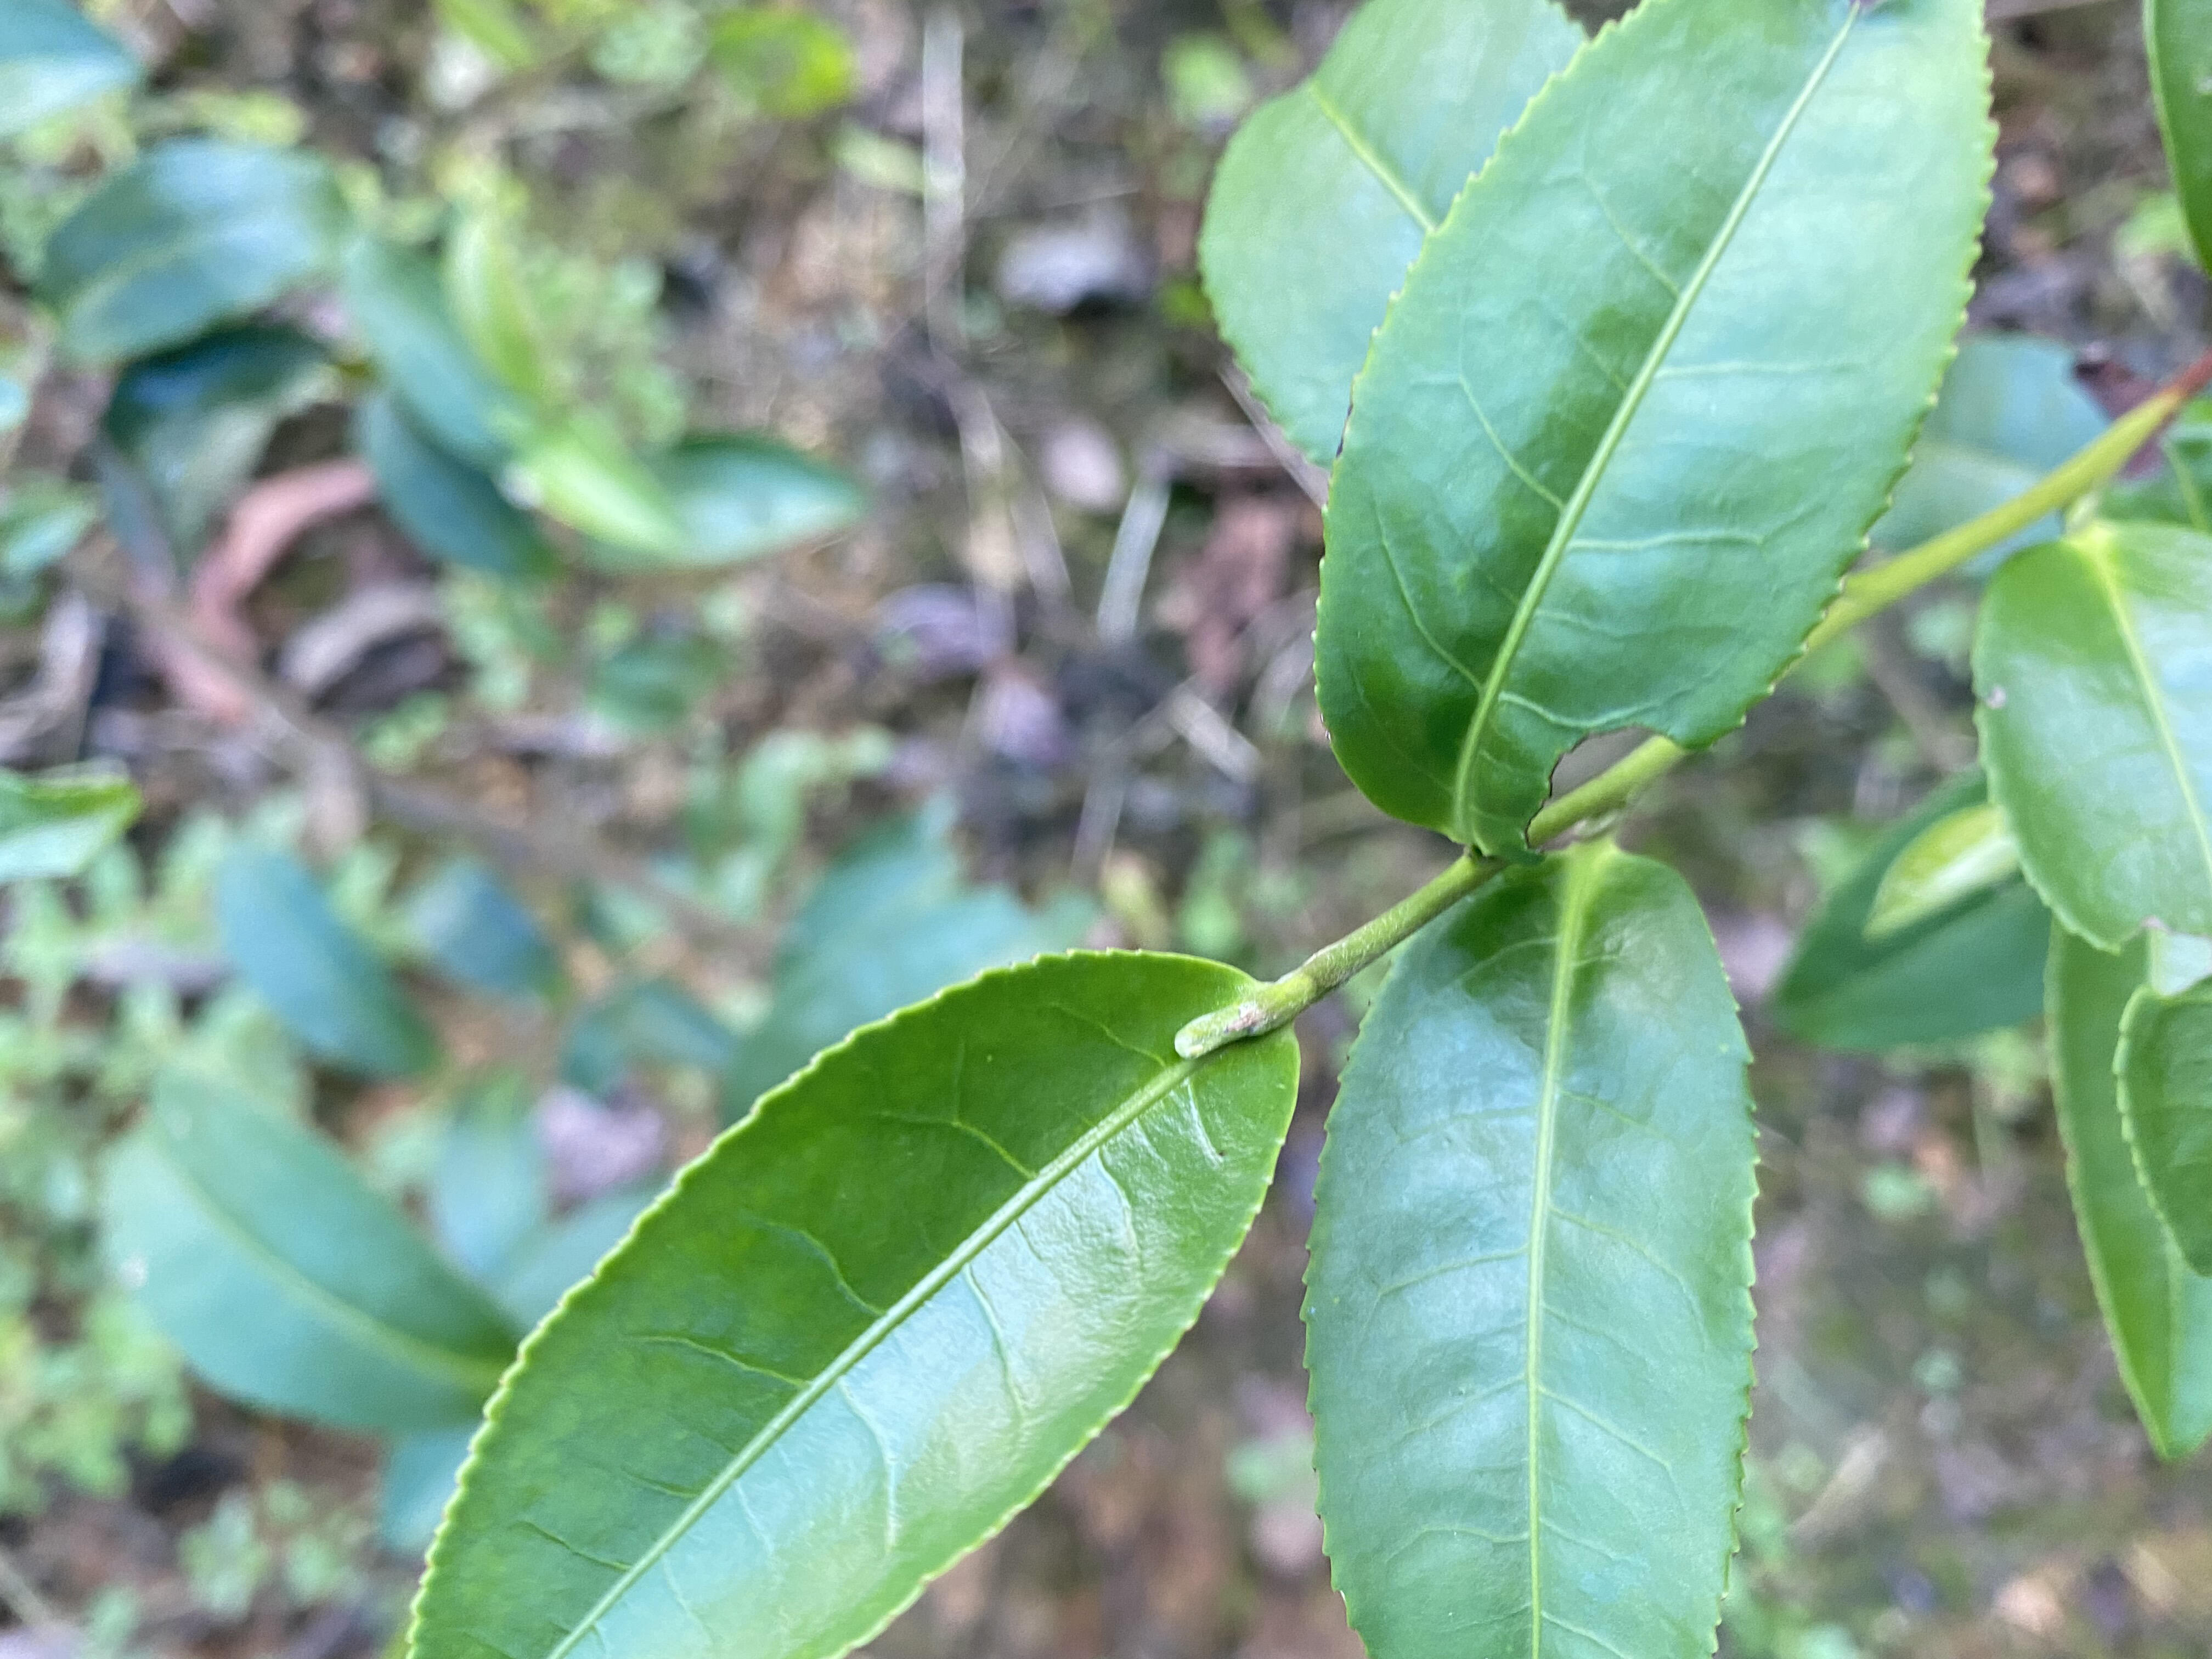chihuo_low: (1313, 2, 2008, 863)
healthy: (402, 943, 1303, 1656), (1301, 843, 1764, 1657)
